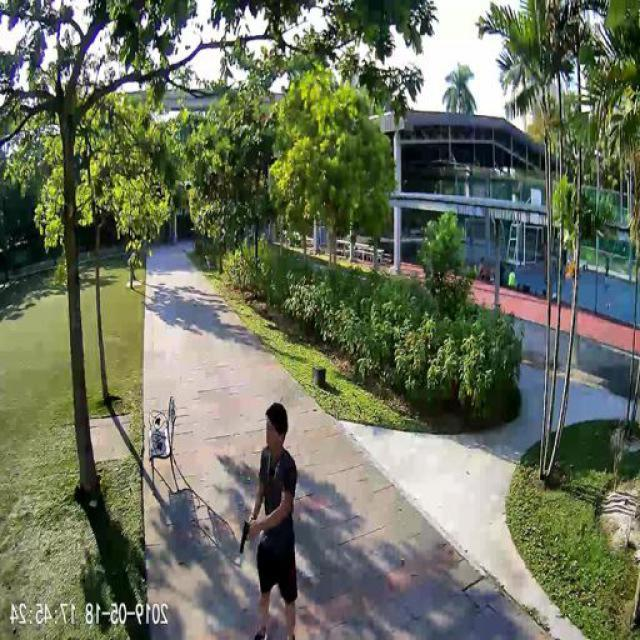weapon: (235, 522, 260, 554)
